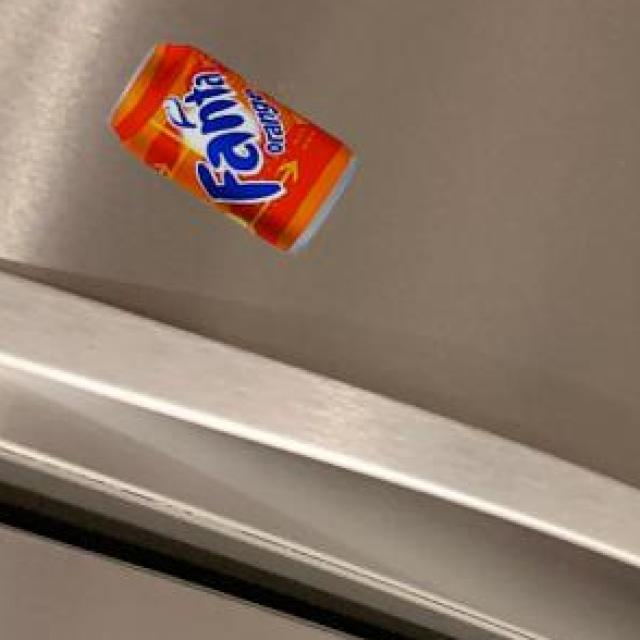logam: (112, 45, 360, 254)
